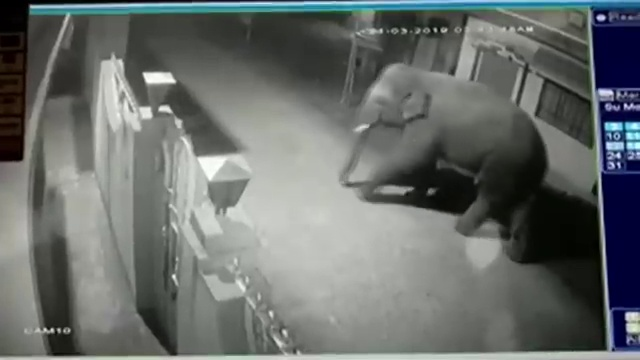Elephant: (338, 63, 548, 265)
